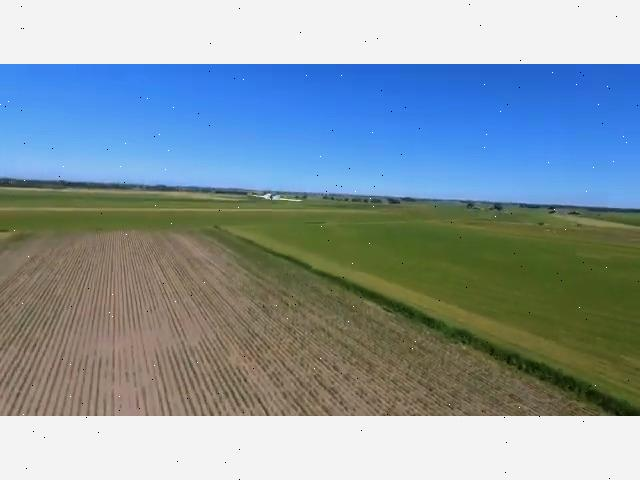Anti-Drone: (242, 179, 306, 212)
